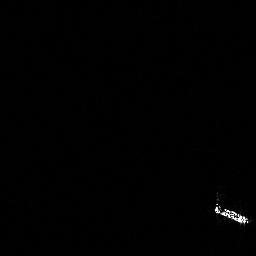ship: (213, 200, 251, 226)
